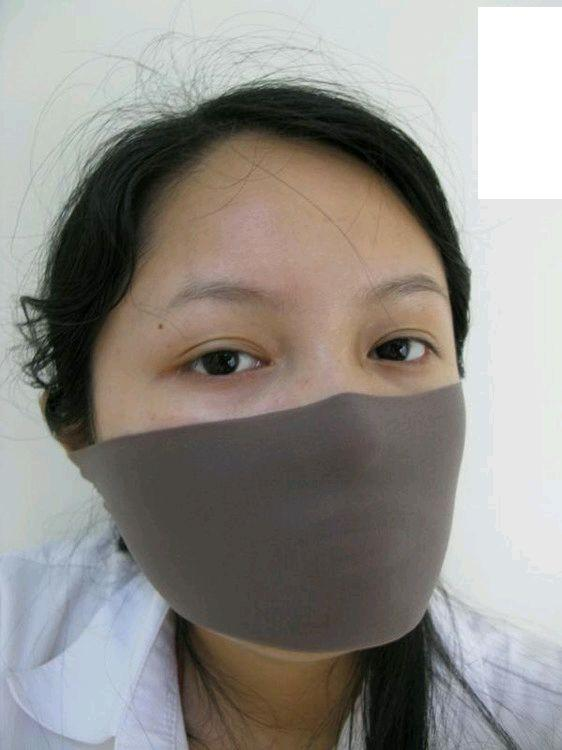OK: (106, 259, 451, 651)
